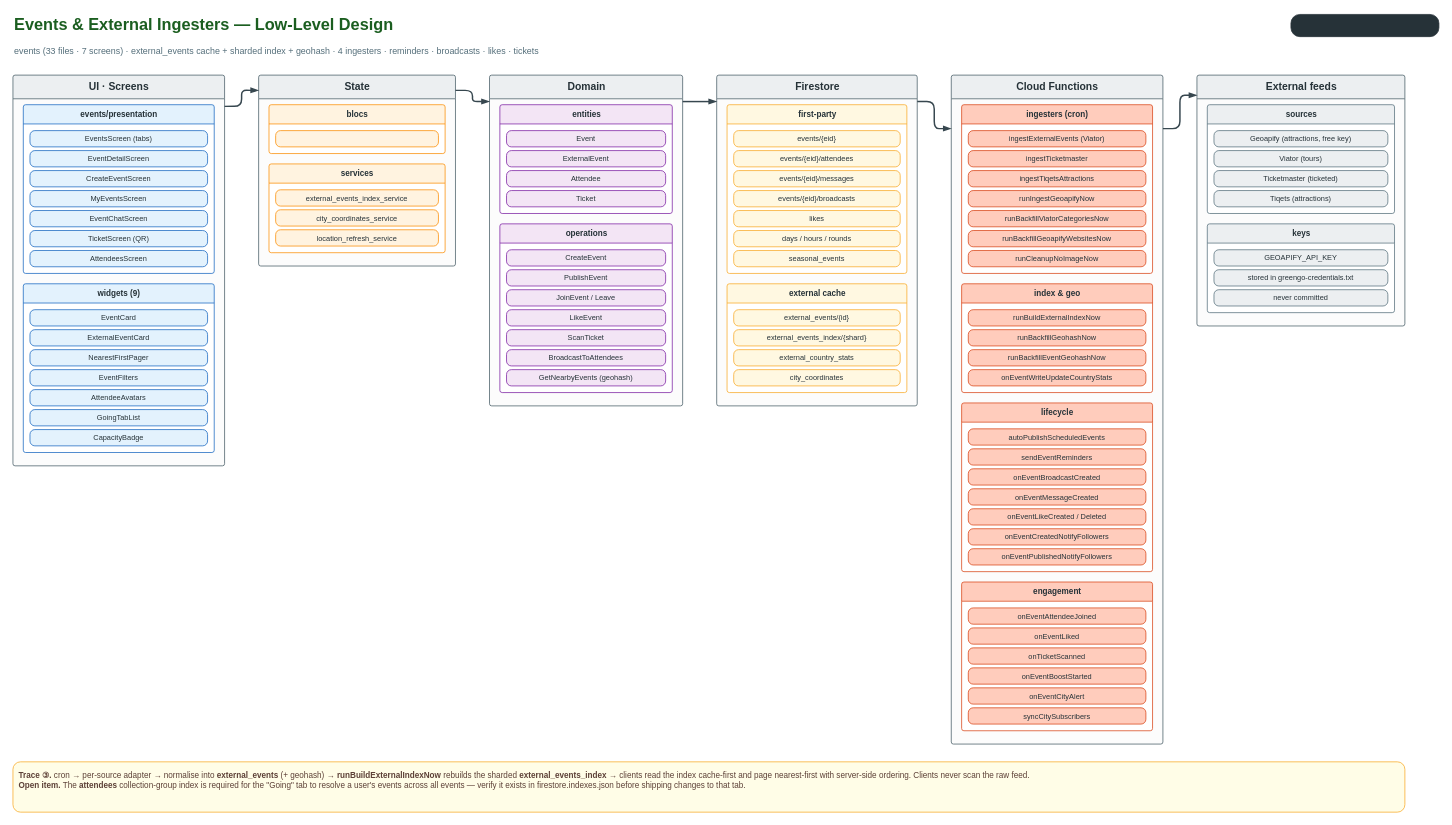
The diagram is 1452 pixels wide and 825 high, and some of its shapes have lost their labels. Here are the shapes that lost their labels. From the top down, the centre of each, then its label:
the point at 1364,25: ◀ back to MASTER
the point at 356,138: EventsBloc
